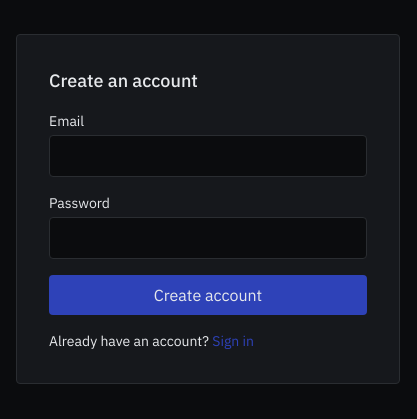
Test: RegisterPage › shows the backend's error detail on a failed registration
Type "new@example.com" into the field labelled "Email" at [208, 156], box x1=49 y1=135 x2=367 y2=177
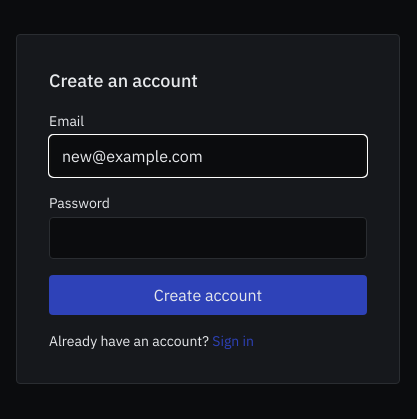
Type "password123" into the password field labelled "Password" at [208, 238], box x1=49 y1=217 x2=367 y2=259
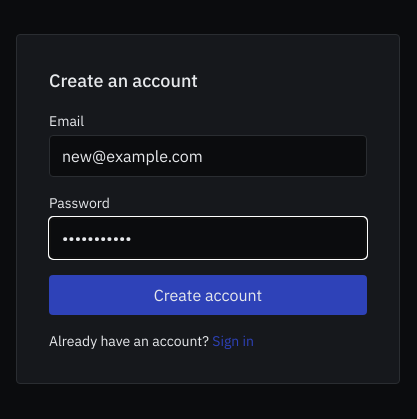
Click the button "Create account" at [208, 295], box x1=49 y1=275 x2=367 y2=315
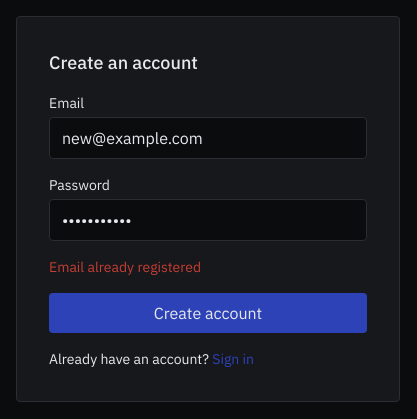
Expected: the text "Email already registered" is shown, x1=49 y1=258 x2=201 y2=276
